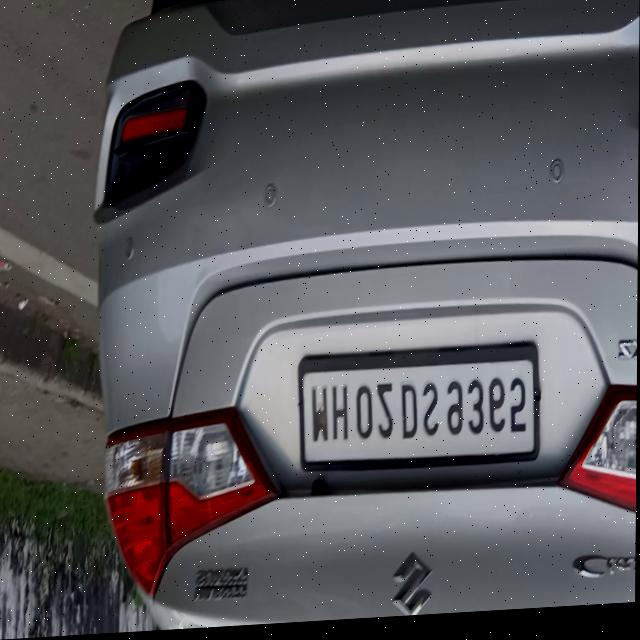plate: (298, 349, 541, 480)
